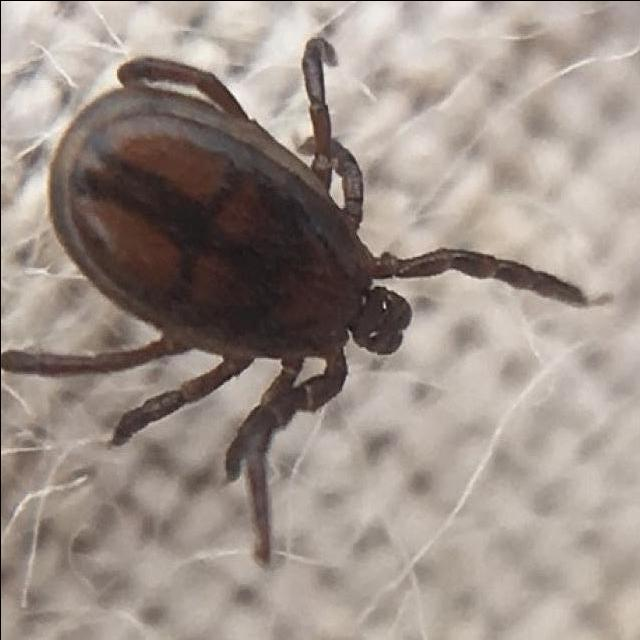Ixodes Ricinus-M: (0, 33, 587, 569)
